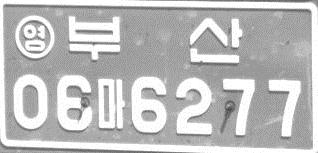0: (12, 72, 48, 131)
2: (174, 77, 214, 136)
6: (130, 75, 167, 134), (55, 73, 92, 131)
7: (221, 76, 256, 137), (267, 78, 301, 137)
마: (96, 77, 126, 130)
부산_D: (67, 15, 242, 63)
영: (14, 14, 55, 59)
